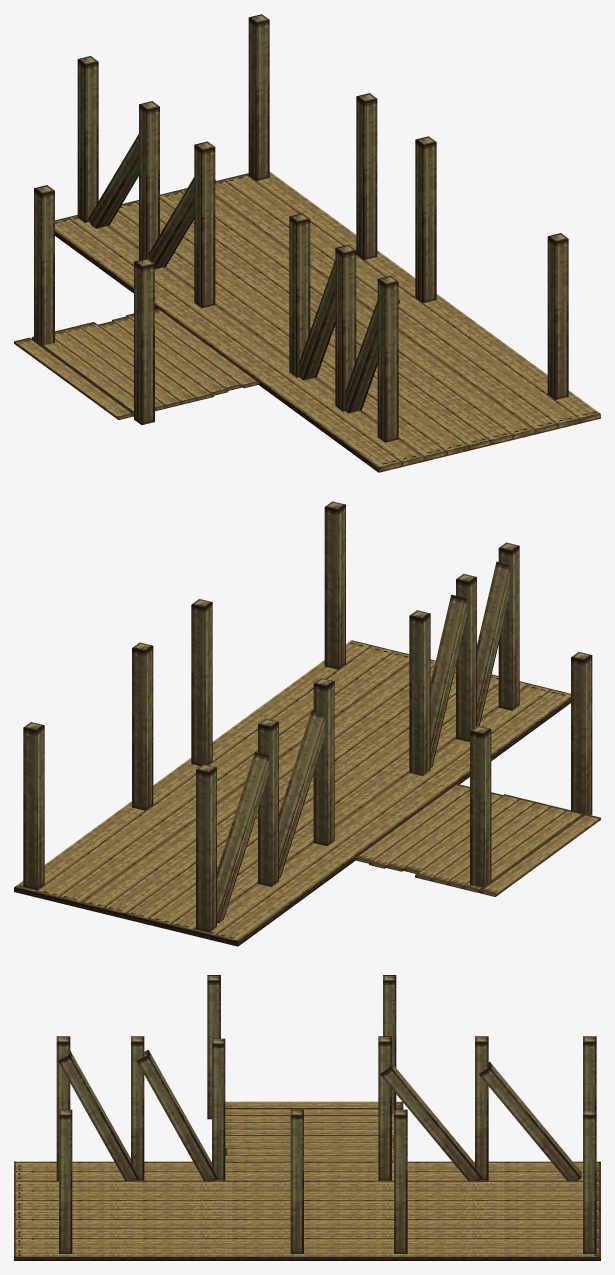
Rendered from EnvBdgMD_Wilderness_A_Outdoor_A_Timelapuse_B.FBX.
3 renders of one model, top to bottom at view 1: azimuth 30°, elevation 25°; view 2: azimuth 150°, elevation 25°; view 3: azimuth 270°, elevation 25°, orthographic. The views are drawn at different scales.
Parts seen in each view (by area): view 1: EnvBdgMD_Wilderness_A_Outdoor_A_Timelapuse_B; view 2: EnvBdgMD_Wilderness_A_Outdoor_A_Timelapuse_B; view 3: EnvBdgMD_Wilderness_A_Outdoor_A_Timelapuse_B.
Part boxes in pixels (<box>): EnvBdgMD_Wilderness_A_Outdoor_A_Timelapuse_B: <box>14,14,600,472</box>; EnvBdgMD_Wilderness_A_Outdoor_A_Timelapuse_B: <box>14,501,600,946</box>; EnvBdgMD_Wilderness_A_Outdoor_A_Timelapuse_B: <box>14,975,600,1260</box>.
Bounding box in the file's own units: 821 × 355 × 1305.
1 material, 1 textured.
